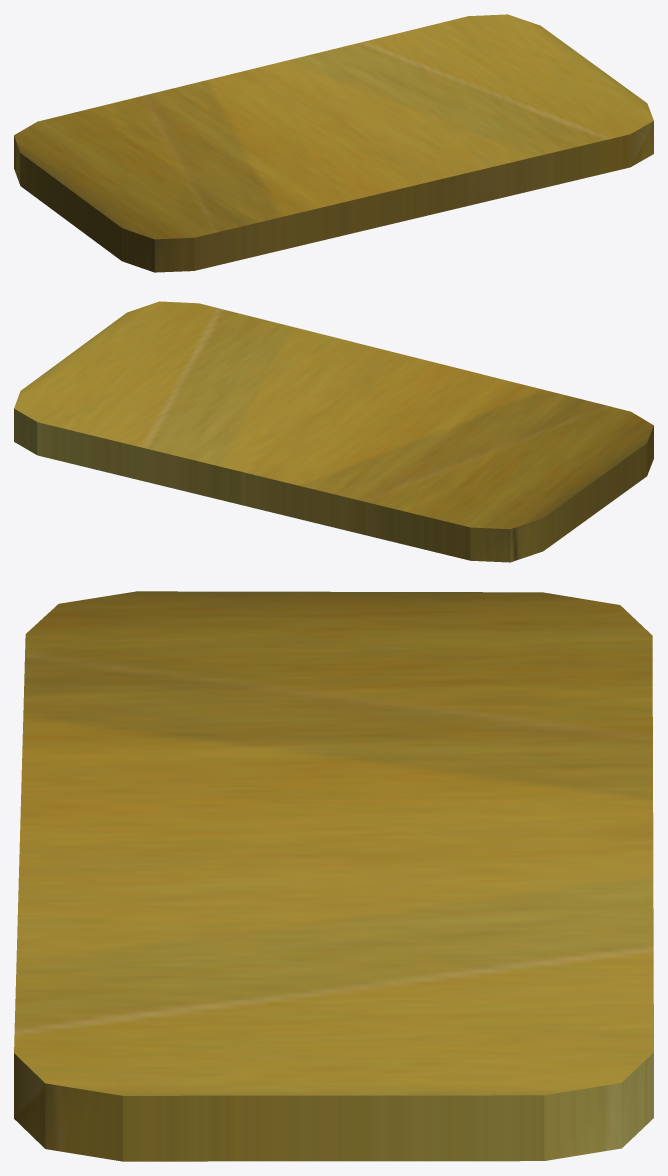
The model's file is nx_lettera.glb.
3 renders of one model, top to bottom at view 1: azimuth 30°, elevation 25°; view 2: azimuth 150°, elevation 25°; view 3: azimuth 270°, elevation 25°, orthographic. The views are drawn at different scales.
Visible parts, largest first — view 1: Plane.009; view 2: Plane.009; view 3: Plane.009.
Part boxes in pixels (x1,y1,x2,y2): Plane.009: [14, 14, 653, 272]; Plane.009: [14, 301, 653, 562]; Plane.009: [14, 591, 653, 1161].
Size of the model in its own units: 0.17 by 0.0103 by 0.0911.
Materials: 1 (1 with a texture image).
